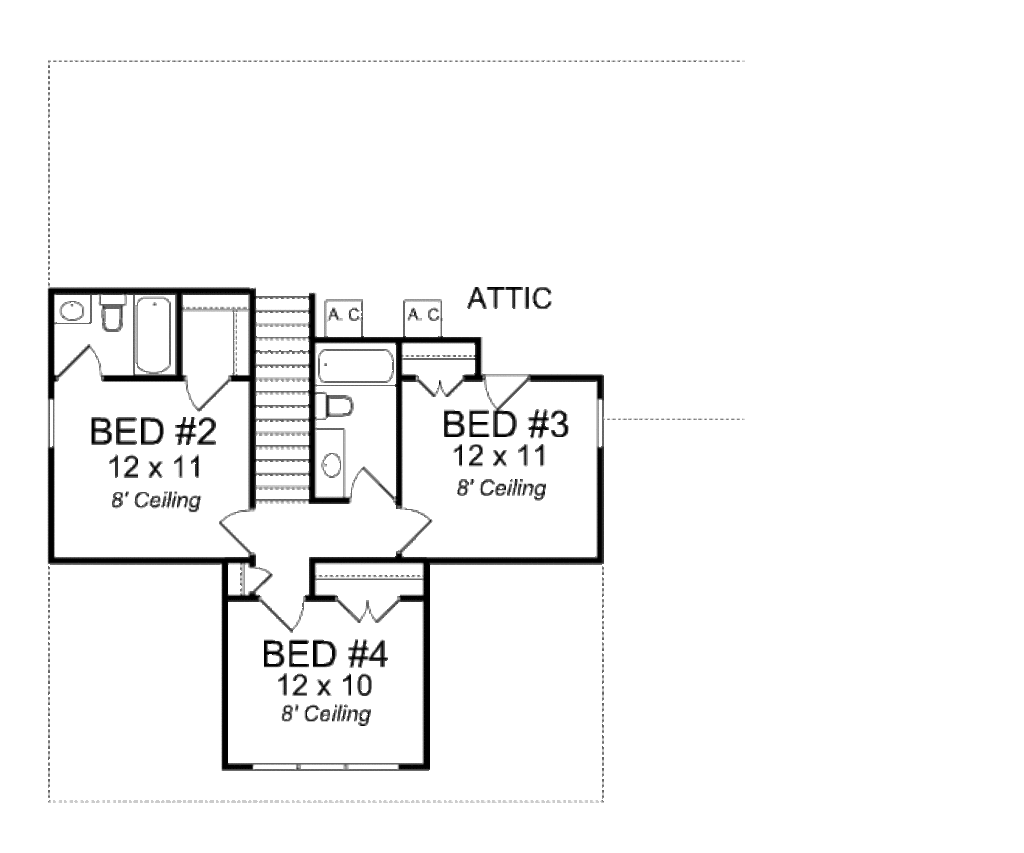door: (332, 593, 398, 631), (60, 341, 110, 391), (210, 507, 256, 559), (180, 369, 232, 414), (347, 468, 403, 507), (263, 589, 310, 632), (484, 377, 535, 414), (414, 370, 464, 405), (399, 506, 431, 555), (247, 569, 277, 599)
large_sink: (311, 390, 364, 424), (98, 294, 127, 343)
small_sink: (309, 427, 345, 498), (56, 294, 90, 324)
stairs: (255, 294, 322, 516)
tub: (318, 337, 395, 387), (134, 293, 173, 374)
window: (594, 397, 606, 448), (51, 397, 53, 453)
windows: (249, 761, 410, 773)
